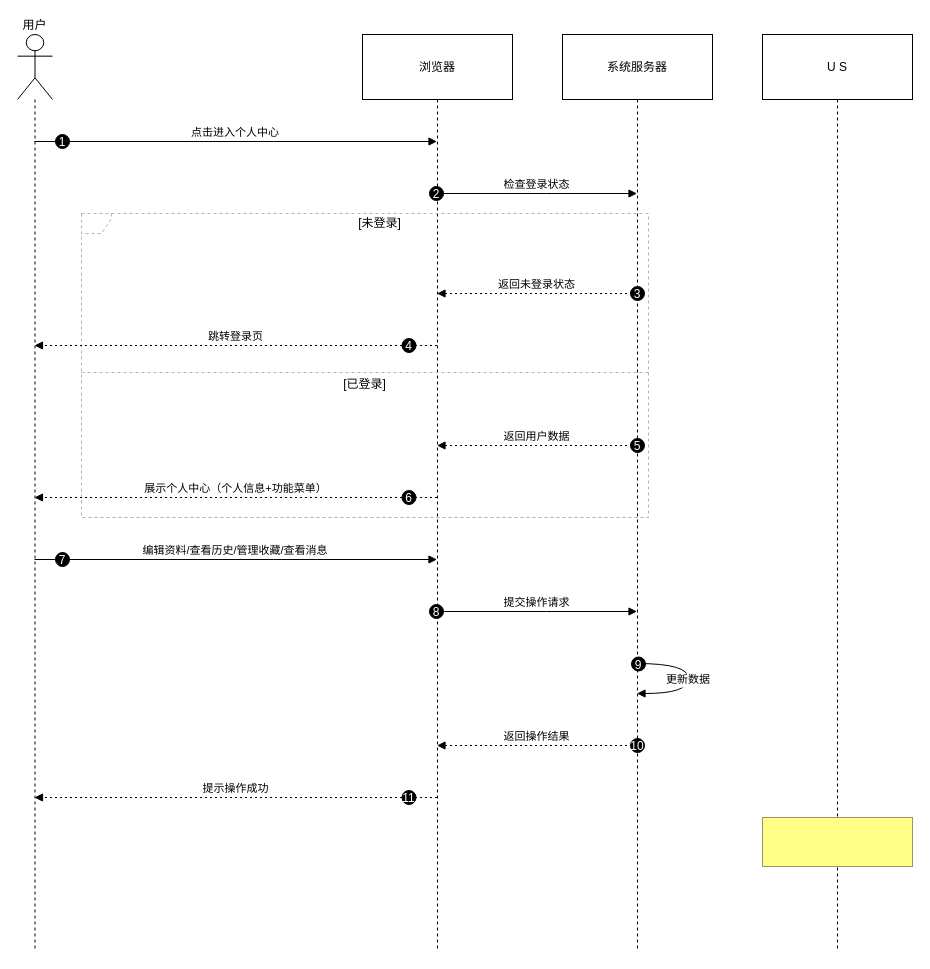
Image size: 930x969. Some labels were removed from this diagram. The shapes that lost their labels are listed below. From the top down, each one's box as (x1, y1, x2, y2) in pixels, then its label:
(80, 212, 648, 518): alt
(762, 816, 912, 866): 个人中心管理完成
